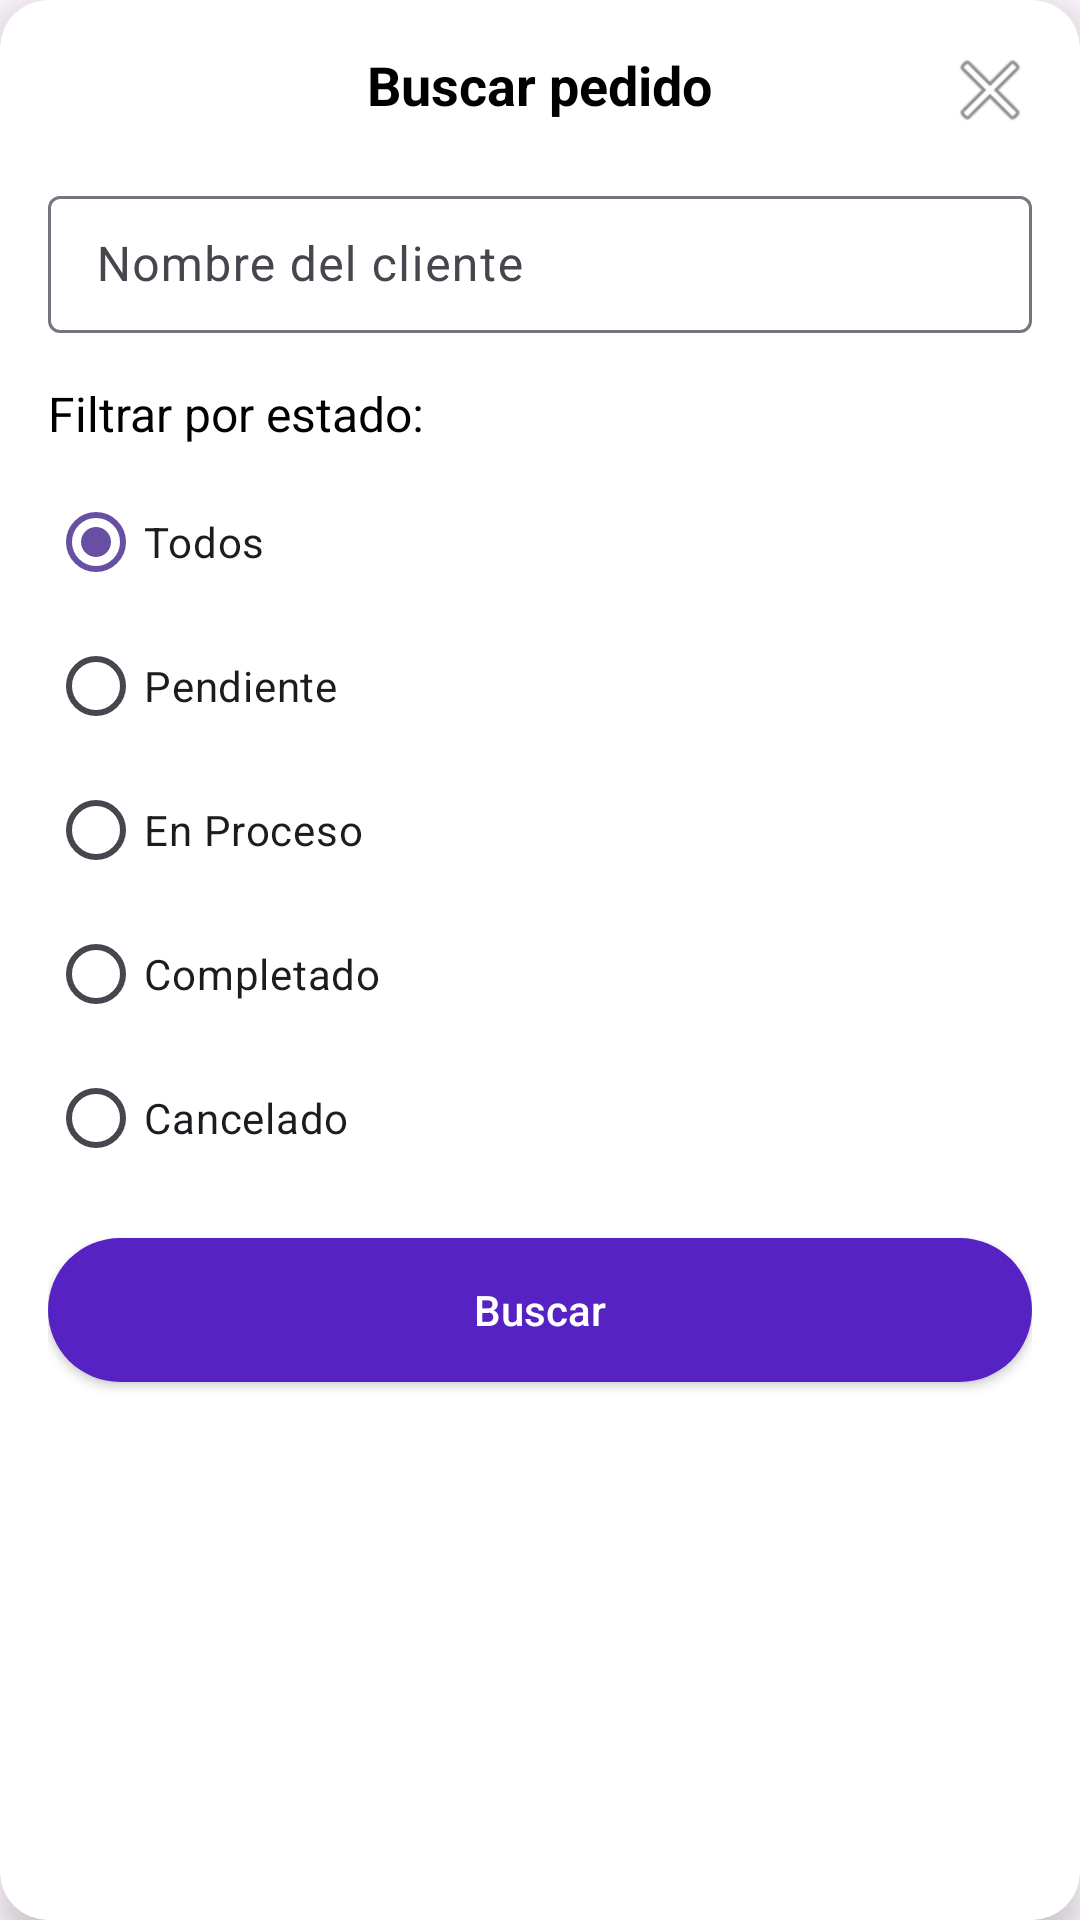

Screen size 1080×1920. Icon name, then its box in pixels as (x1=x1, y1=y1, x2=x2, y2=y2):
close clear cancel: (x1=960, y1=60, x2=1020, y2=120)
